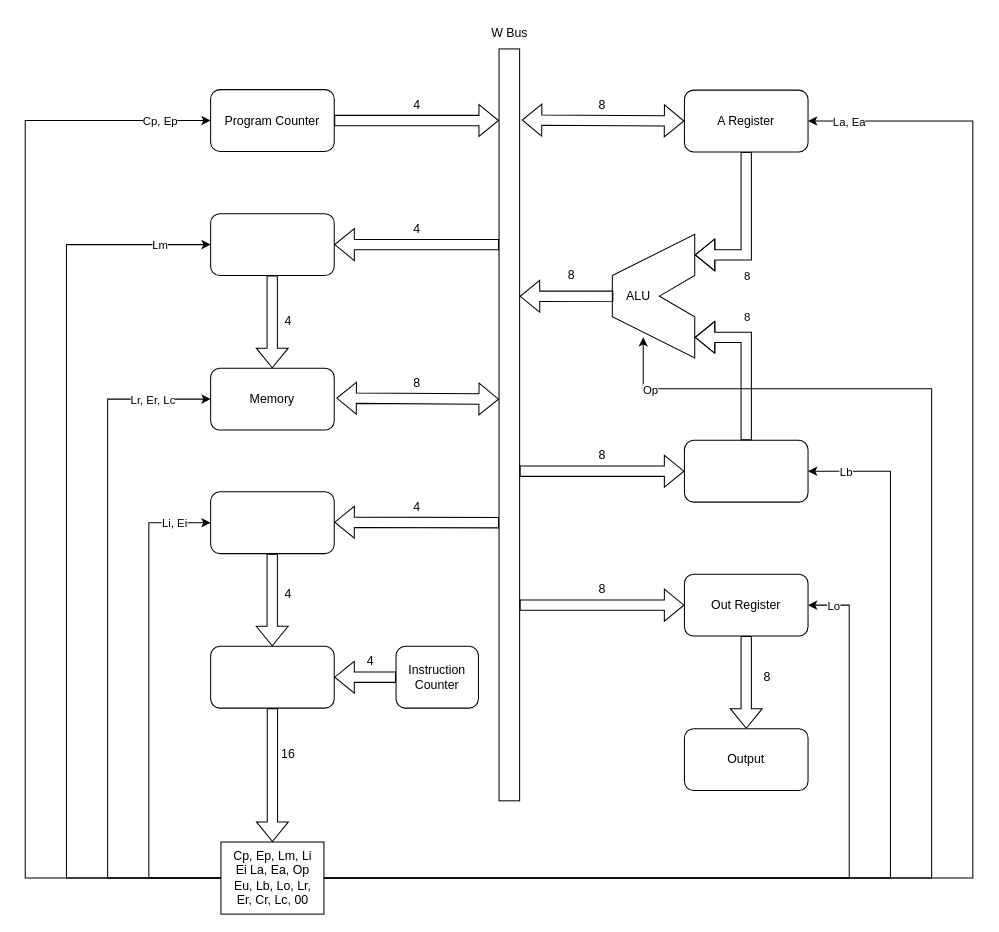
Some shapes in this 999 by 932 pixel diagram are drawn without their labels. Here are the shapes that lost their labels. From the top down, the centre of each, then its label:
At (272,244): "Memory Adress Register".
At (745,470): "B Register".
At (272,522): "Instruction Register".
At (272,676): "Controller".
